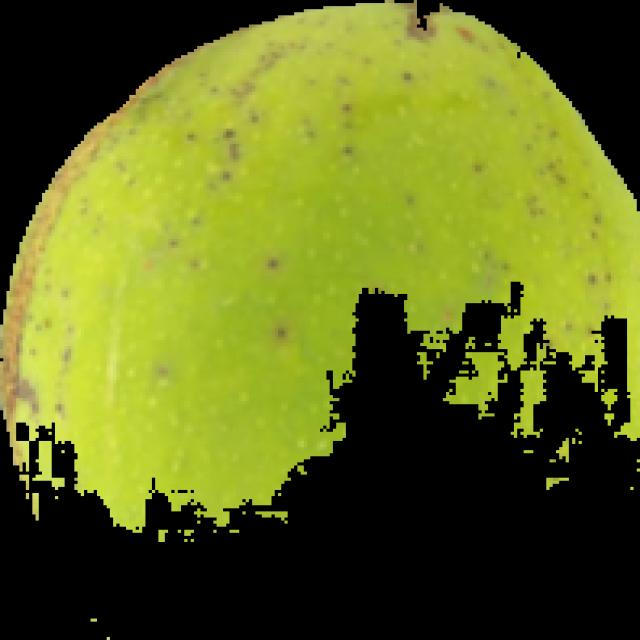Mango-sano: (0, 0, 639, 532)
